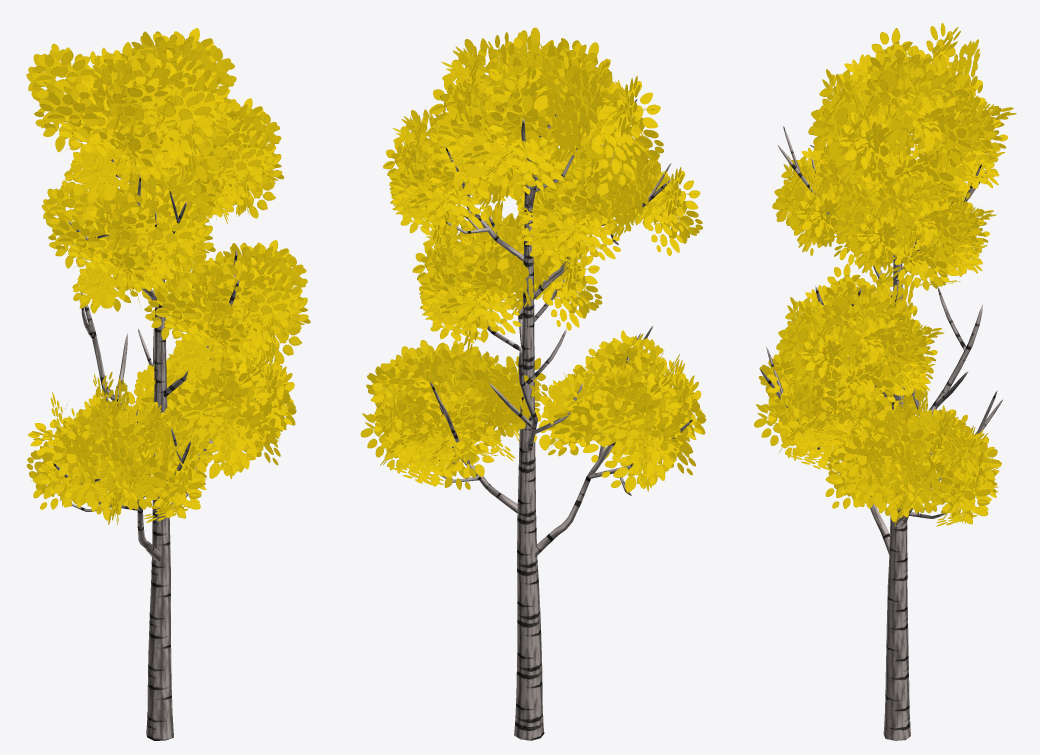
The model's file is BirchTree_2.glb.
3 views of the same model, side by side, from view 1: azimuth 30°, elevation 25°; view 2: azimuth 150°, elevation 25°; view 3: azimuth 270°, elevation 25° (orthographic). The views are drawn at different scales.
Bounding box in the file's own units: 3.35 × 7.57 × 2.81.
2 materials, 2 textured.
